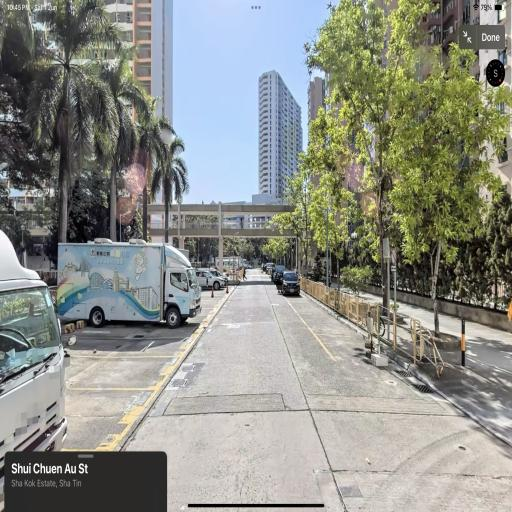Roads: (33, 247, 506, 503)
Trees: (274, 0, 504, 372), (48, 3, 208, 250)
